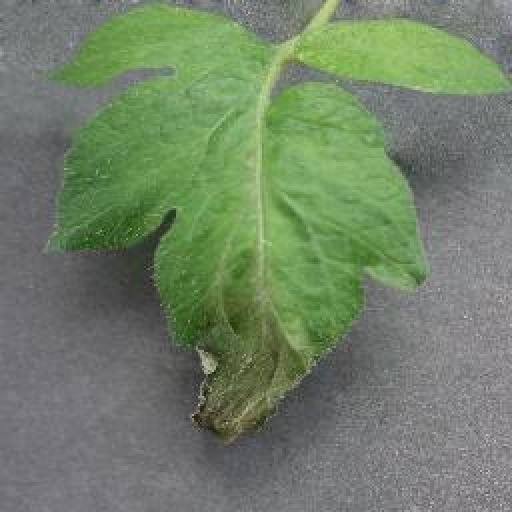Late Blight: (42, 6, 512, 450)
